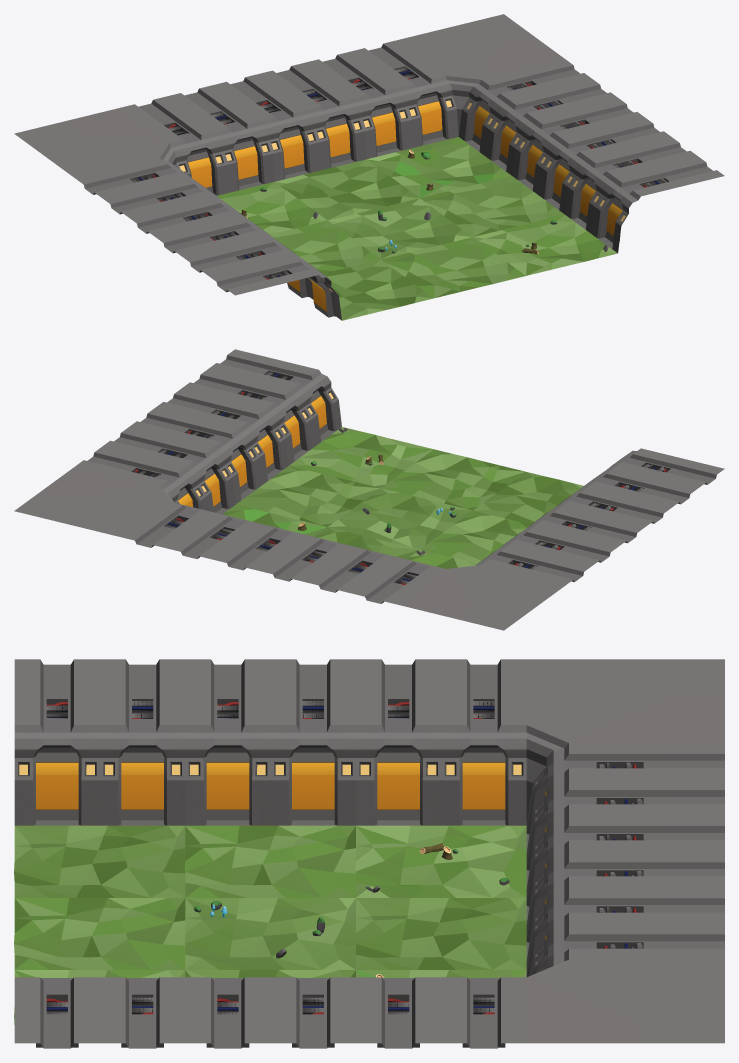
Rendered from level.fbx.
The picture shows the model from 3 angles, top to bottom: view 1: azimuth 30°, elevation 25°; view 2: azimuth 150°, elevation 25°; view 3: azimuth 270°, elevation 25°; orthographic projection. The views are drawn at different scales.
Visible parts, largest first — view 1: Title_Scene_Background; view 2: Title_Scene_Background; view 3: Title_Scene_Background.
Part boxes in pixels (x1,y1,x2,y2): Title_Scene_Background: (14, 14, 724, 320); Title_Scene_Background: (14, 349, 724, 630); Title_Scene_Background: (14, 659, 724, 1048).
Bounding box in the file's own units: 3844 × 416 × 3008.
1 material, 1 textured.
